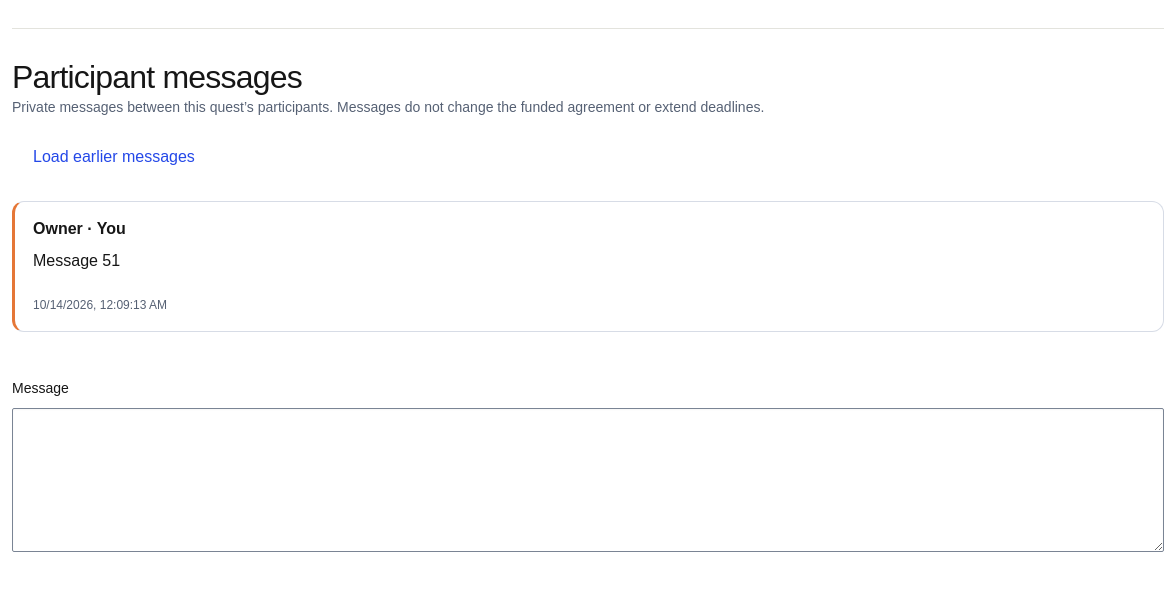
Scenario: keeps exhausted history exhausted after latest-message polling
The image size is (1176, 590).
Click the button "Load earlier messages": (114, 157) top-left (12, 133), bottom-right (216, 181)
Wait 5000 ms
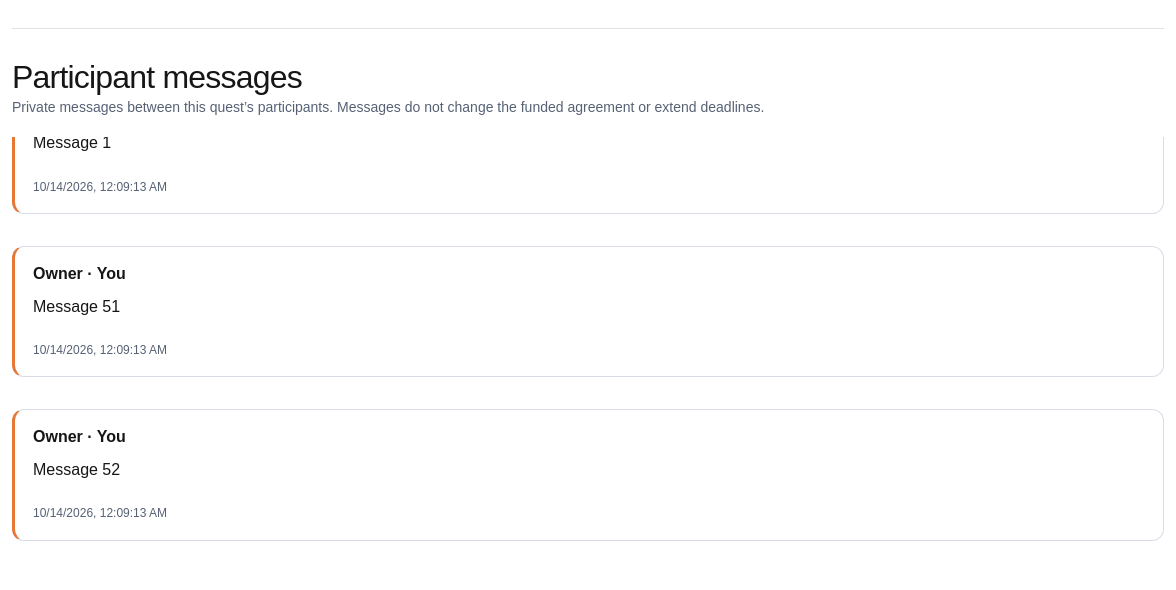
Check: the text "Load earlier messages" is gone
